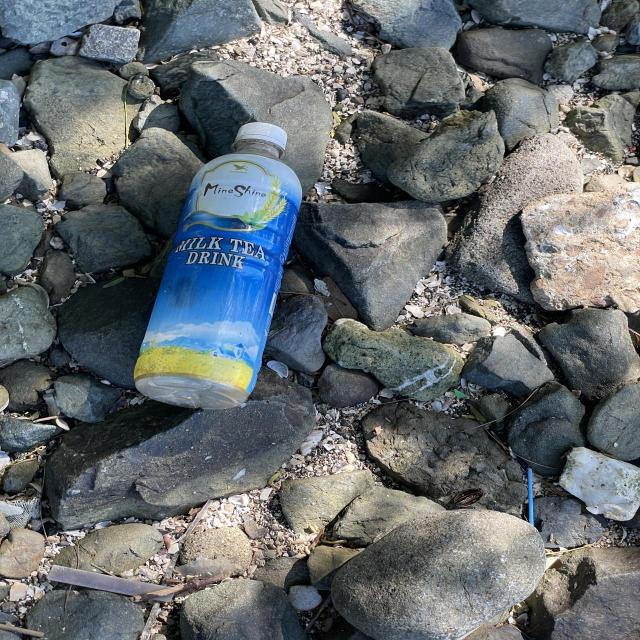plastic_waste: (136, 124, 332, 416), (558, 448, 640, 525)
